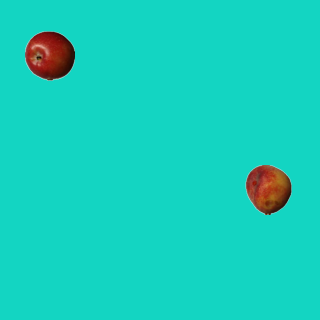Apple Braeburn: (24, 30, 74, 80)
Peach: (243, 164, 293, 214)
